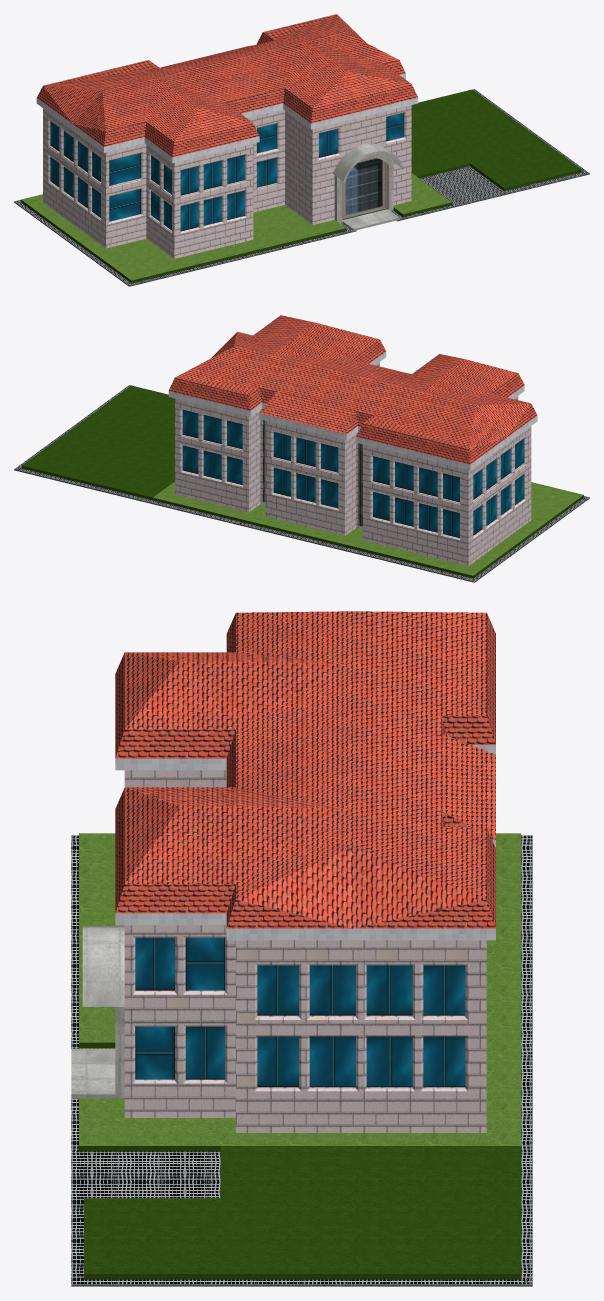
Rendered from building_relic.obj.
3 renders of one model, top to bottom at view 1: azimuth 30°, elevation 25°; view 2: azimuth 150°, elevation 25°; view 3: azimuth 270°, elevation 25°, orthographic. The views are drawn at different scales.
Parts seen in each view (by area): view 1: building_relic; view 2: building_relic; view 3: building_relic.
Part boxes in pixels (x1,y1,x2,y2): building_relic: (14,14,589,286); building_relic: (14,315,589,582); building_relic: (71,611,532,1286).
Bounding box in the file's own units: 458 × 129 × 198.
12 materials, 12 textured.
